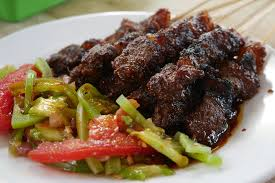sate: (5, 3, 268, 172)
